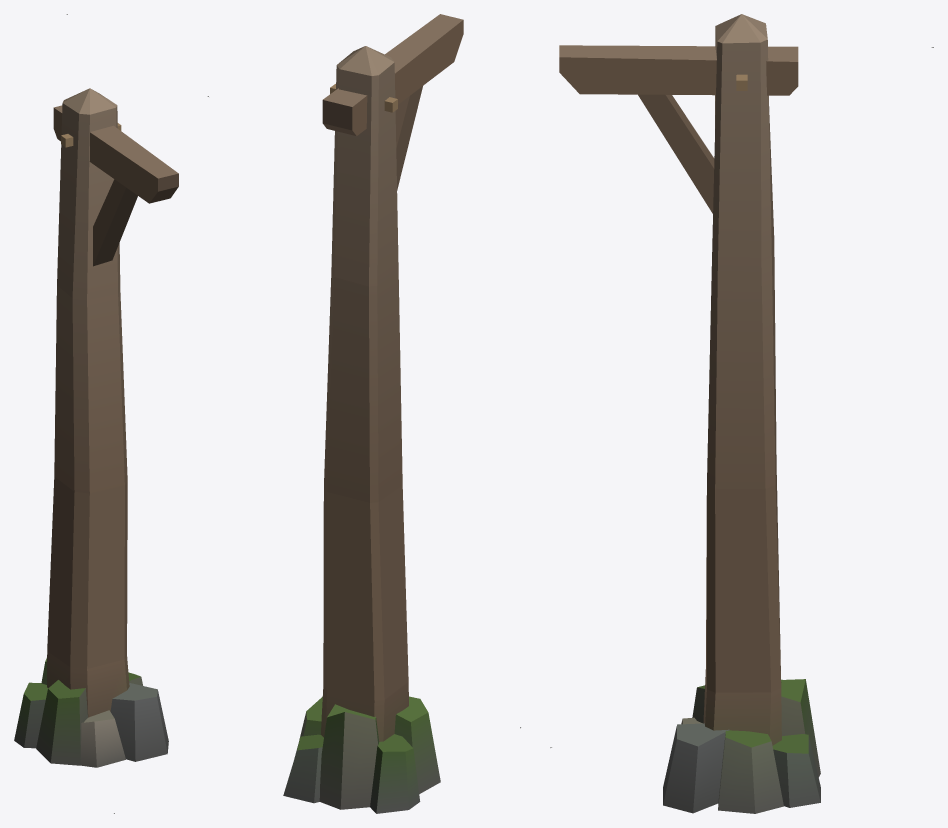
Rendered from CreekLanternPost_bark.glb.
3 views of the same model, side by side, from view 1: azimuth 30°, elevation 25°; view 2: azimuth 150°, elevation 25°; view 3: azimuth 270°, elevation 25° (orthographic). The views are drawn at different scales.
Parts seen in each view (by area): view 1: CreekLanternPost_bark; view 2: CreekLanternPost_bark; view 3: CreekLanternPost_bark.
Boxes of the visible parts, x1,y1,x2,y2 form: CreekLanternPost_bark: (14, 14, 178, 813); CreekLanternPost_bark: (207, 14, 520, 813); CreekLanternPost_bark: (550, 14, 933, 813).
Size of the model in its own units: 1.4 by 7.5 by 3.4.
